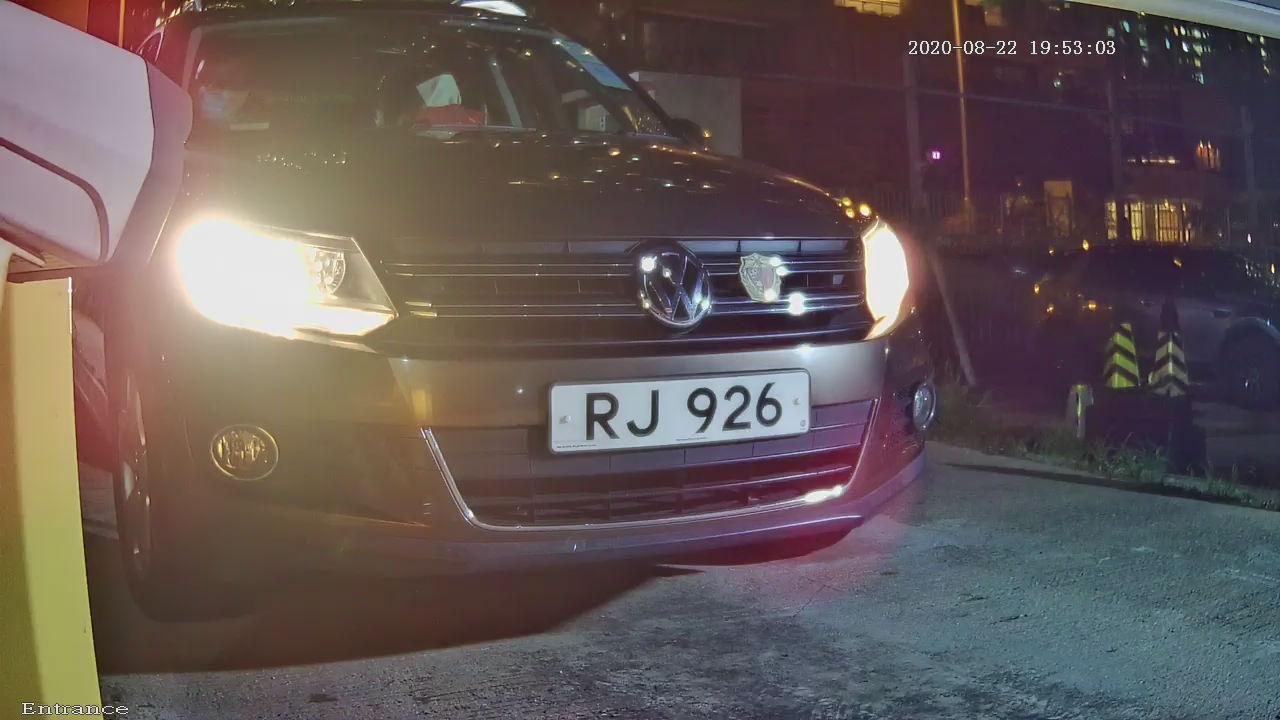Car: (1, 26, 1012, 631)
License Plate: (494, 345, 857, 488)
